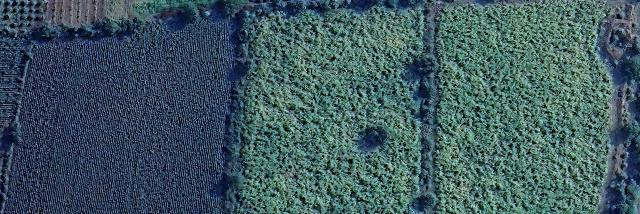Farms: (3, 4, 245, 214), (227, 3, 428, 214), (436, 3, 618, 214)
